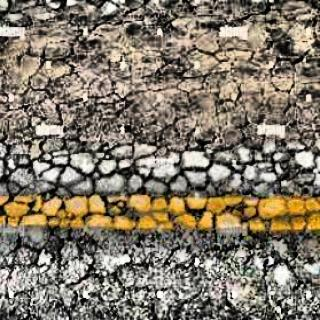alligator-crack: (0, 106, 320, 320), (0, 1, 311, 109)
